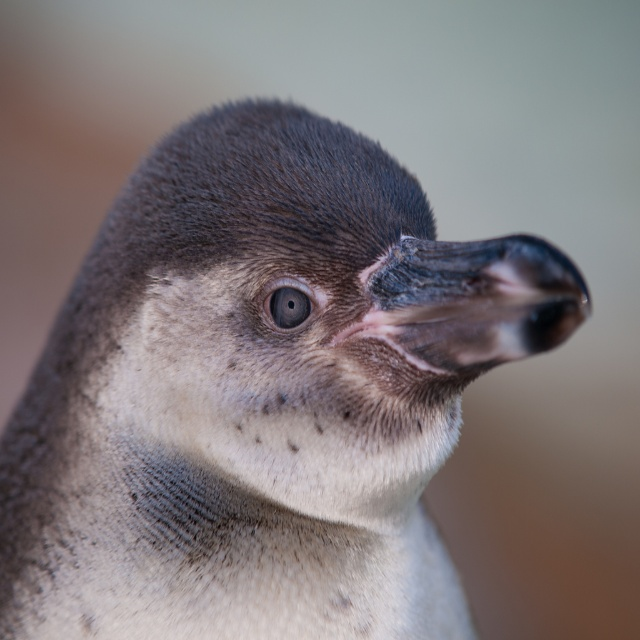Penguin: (0, 95, 596, 639)
